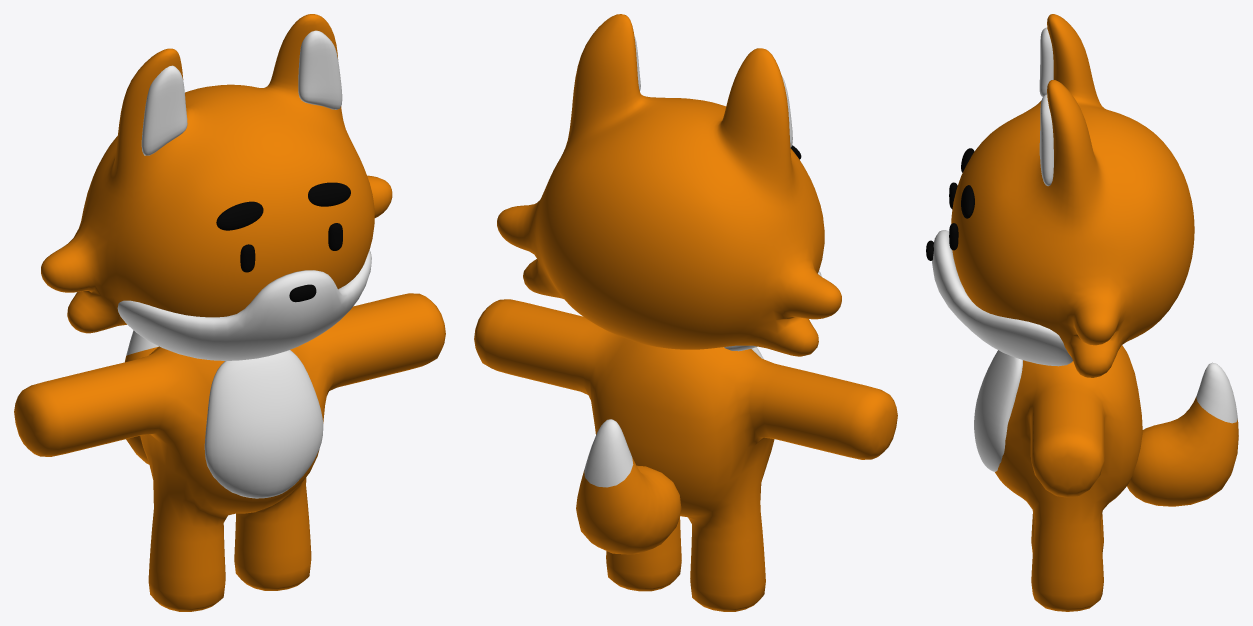
The model's file is fox_0 1.fbx.
3 views of the same model, side by side, from view 1: azimuth 30°, elevation 25°; view 2: azimuth 150°, elevation 25°; view 3: azimuth 270°, elevation 25° (orthographic). The views are drawn at different scales.
Visible parts, largest first — view 1: Cube.001, Cube, Cube.004, Cube.002, Cube.003, Cube.005, Cube.007; view 2: Cube.001, Cube, Cube.007; view 3: Cube.001, Cube, Cube.007, Cube.002, Cube.004, Cube.003, Cube.005.
Part boxes in pixels (box(x1,y1,x2,y2)): Cube.001: box(41, 14, 392, 333); Cube: box(14, 293, 445, 611); Cube.004: box(204, 350, 323, 498); Cube.002: box(117, 250, 371, 360); Cube.003: box(141, 30, 342, 155); Cube.005: box(216, 182, 350, 272); Cube.007: box(125, 330, 158, 464); Cube.001: box(497, 14, 841, 356); Cube: box(474, 299, 897, 611); Cube.007: box(576, 419, 681, 554); Cube.001: box(951, 14, 1194, 377); Cube: box(995, 345, 1142, 611); Cube.007: box(1127, 362, 1238, 506); Cube.002: box(932, 230, 1072, 366); Cube.004: box(974, 350, 1022, 471); Cube.003: box(1039, 27, 1053, 186); Cube.005: box(949, 148, 974, 250).
Size of the model in its own units: 364 by 476 by 253.
